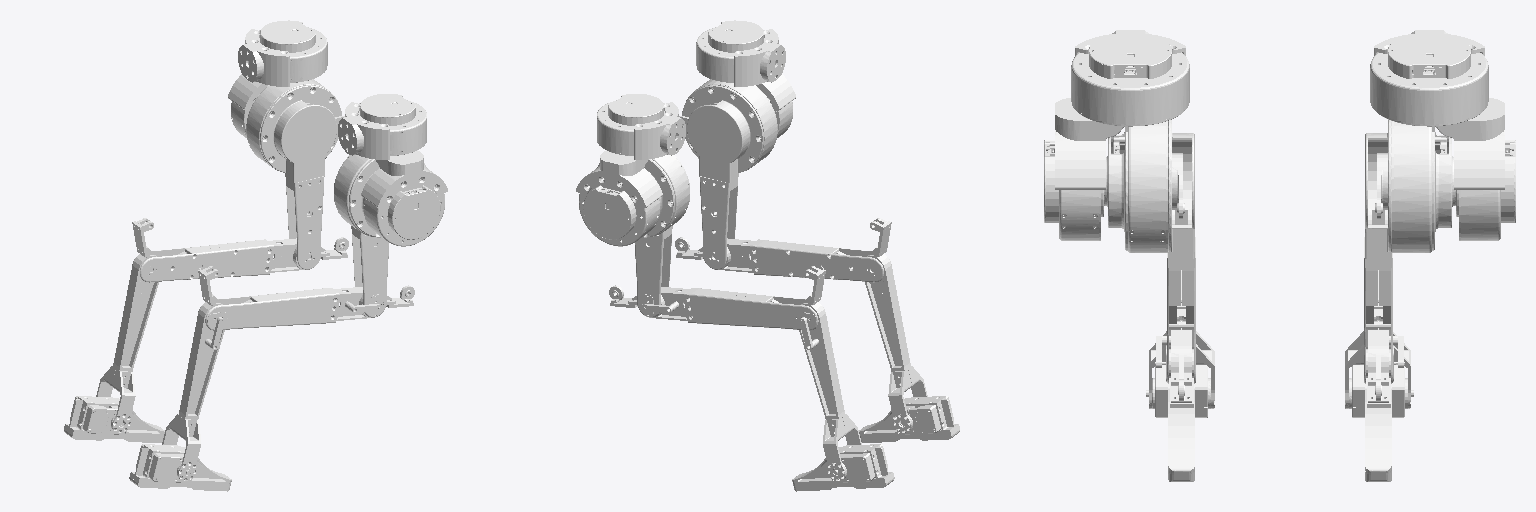
URDF robot description (BonnieURDF_latest):
<?xml version="1.0" encoding="utf-8"?>
<!-- This URDF was automatically created by SolidWorks to URDF Exporter! Originally created by [author] ([email redacted]) 
     Commit Version: 1.6.0-4-g7f85cfe  Build Version: 1.6.7995.38578
     For more information, please see http://wiki.ros.org/sw_urdf_exporter -->
<robot
  name="BonnieURDF_latest">
  <link
    name="base_link">
    <inertial>
      <origin
        xyz="0.03615 0.00032 0.05426"
        rpy="0 0 0" />
      <mass
        value="5.4310409" />
      <inertia
        ixx="0.07333"
        ixy="-0.00012"
        ixz="0.0138"
        iyy="0.05085"
        iyz="-4E-05"
        izz="0.08396" />
    </inertial>
    <visual>
      <origin
        xyz="0 0 0"
        rpy="0 0 0" />
      <geometry>
        <mesh
          filename="package://meshes/base_link.STL" />
      </geometry>
      <material
        name="">
        <color
          rgba="1 1 1 1" />
      </material>
    </visual>
    <collision>
      <origin
        xyz="0 0 0"
        rpy="0 0 0" />
      <geometry>
        <mesh
          filename="package://meshes/base_link.STL" />
      </geometry>
    </collision>
  </link>
  <link
    name="r_roll_link">
    <inertial>
      <origin
        xyz="-0.00179 -0.000876 -0.055111"
        rpy="0 0 0" />
      <mass
        value="0.77443" />
      <inertia
        ixx="0.001081"
        ixy="2E-06"
        ixz="7E-06"
        iyy="0.000774"
        iyz="0"
        izz="0.000774" />
    </inertial>
    <visual>
      <origin
        xyz="0 0 0"
        rpy="0 0 0" />
      <geometry>
        <mesh
          filename="package://meshes/r_roll_link.STL" />
      </geometry>
      <material
        name="">
        <color
          rgba="1 1 1 1" />
      </material>
    </visual>
    <collision>
      <origin
        xyz="0 0 0"
        rpy="0 0 0" />
      <geometry>
        <mesh
          filename="package://meshes/r_roll_link.STL" />
      </geometry>
    </collision>
  </link>
  <joint
    name="r_roll_joint"
    type="revolute">
    <origin
      xyz="0 -0.125 0"
      rpy="3.1416 1.5708 0" />
    <parent
      link="base_link" />
    <child
      link="r_roll_link" />
    <axis
      xyz="0 0 1" />
    <limit effort="150.0" lower="-6.2831853" upper="6.2831853" velocity="10"/>
  </joint>
  <link
    name="r_yaw_link">
    <inertial>
      <origin
        xyz="8E-06 -0.041712 -0.062133"
        rpy="0 0 0" />
      <mass
        value="0.85746" />
      <inertia
        ixx="0.001088"
        ixy="2E-06"
        ixz="0"
        iyy="0.00136"
        iyz="9.9E-05"
        izz="0.000833" />
    </inertial>
    <visual>
      <origin
        xyz="0 0 0"
        rpy="0 0 0" />
      <geometry>
        <mesh
          filename="package://meshes/r_yaw_link.STL" />
      </geometry>
      <material
        name="">
        <color
          rgba="1 1 1 1" />
      </material>
    </visual>
    <collision>
      <origin
        xyz="0 0 0"
        rpy="0 0 0" />
      <geometry>
        <mesh
          filename="package://meshes/r_yaw_link.STL" />
      </geometry>
    </collision>
  </link>
  <joint
    name="r_yaw_joint"
    type="revolute">
    <origin
      xyz="0.02 0 -0.0585"
      rpy="3.1416 1.5708 0" />
    <parent
      link="r_roll_link" />
    <child
      link="r_yaw_link" />
    <axis
      xyz="0 0 1" />
    <limit effort="150.0" lower="-6.2831853" upper="6.2831853" velocity="10"/>
  </joint>
  <link
    name="r_pitch_link">
    <inertial>
      <origin
        xyz="0.009263 -0.0005 -0.036818"
        rpy="0 0 0" />
      <mass
        value="1.5261" />
      <inertia
        ixx="0.002134"
        ixy="5E-06"
        ixz="-0.000367"
        iyy="0.003721"
        iyz="4E-06"
        izz="0.004751" />
    </inertial>
    <visual>
      <origin
        xyz="0 0 0"
        rpy="0 0 0" />
      <geometry>
        <mesh
          filename="package://meshes/r_pitch_link.STL" />
      </geometry>
      <material
        name="">
        <color
          rgba="1 1 1 1" />
      </material>
    </visual>
    <collision>
      <origin
        xyz="0 0 0"
        rpy="0 0 0" />
      <geometry>
        <mesh
          filename="package://meshes/r_pitch_link.STL" />
      </geometry>
    </collision>
  </link>
  <joint
    name="r_pitch_joint"
    type="revolute">
    <origin
      xyz="0 -0.022 -0.071"
      rpy="1.5708 1.5708 0" />
    <parent
      link="r_yaw_link" />
    <child
      link="r_pitch_link" />
    <axis
      xyz="0 0 1" />
    <limit effort="150.0" lower="-6.2831853" upper="6.2831853" velocity="10"/>
  </joint>
  <link
    name="r_knee_link">
    <inertial>
      <origin
        xyz="0.00896 0.00027667 -0.0058169"
        rpy="0 0 0" />
      <mass
        value="0.051027" />
      <inertia
        ixx="7.37E-06"
        ixy="3.3E-07"
        ixz="-1.23E-06"
        iyy="2.572E-05"
        iyz="-4E-08"
        izz="3.214E-05" />
    </inertial>
    <visual>
      <origin
        xyz="0 0 0"
        rpy="0 0 0" />
      <geometry>
        <mesh
          filename="package://meshes/r_knee_link.STL" />
      </geometry>
      <material
        name="">
        <color
          rgba="1 1 1 1" />
      </material>
    </visual>
    <collision>
      <origin
        xyz="0 0 0"
        rpy="0 0 0" />
      <geometry>
        <mesh
          filename="package://meshes/r_knee_link.STL" />
      </geometry>
    </collision>
  </link>
  <joint
    name="r_knee_joint"
    type="revolute">
    <origin
      xyz="0 0 -0.0556999999999996"
      rpy="0 0 1.5707963267949" />
    <parent
      link="r_pitch_link" />
    <child
      link="r_knee_link" />
    <axis
      xyz="0 0 -1" />
    <limit effort="150.0" lower="-6.2831853" upper="6.2831853" velocity="10"/>
  </joint>
  <link
    name="r_pas1_link">
    <inertial>
      <origin
        xyz="0.092132 -0.00011396 0.00046816"
        rpy="0 0 0" />
      <mass
        value="0.22498" />
      <inertia
        ixx="3.8991E-05"
        ixy="4.65E-06"
        ixz="4.57E-06"
        iyy="0.0018412"
        iyz="1E-08"
        izz="0.0018559" />
    </inertial>
    <visual>
      <origin
        xyz="0 0 0"
        rpy="0 0 0" />
      <geometry>
        <mesh
          filename="package://meshes/r_pas1_link.STL" />
      </geometry>
      <material
        name="">
        <color
          rgba="1 1 1 1" />
      </material>
    </visual>
    <collision>
      <origin
        xyz="0 0 0"
        rpy="0 0 0" />
      <geometry>
        <mesh
          filename="package://meshes/r_pas1_link.STL" />
      </geometry>
    </collision>
  </link>
  <joint
    name="r_pas1_joint"
    type="revolute">
    <origin
      xyz="0.168 0 -0.0647"
      rpy="0 0 -1.722" />
    <parent
      link="r_pitch_link" />
    <child
      link="r_pas1_link" />
    <axis
      xyz="0 0 1" />
      <limit effort="150.0" lower="-6.2831853" upper="6.2831853" velocity="10"/>
  </joint>
  <link
    name="r_pas2_link">
    <inertial>
      <origin
        xyz="0.066727 -0.0017204 0.00024193"
        rpy="0 0 0" />
      <mass
        value="0.15816" />
      <inertia
        ixx="3.449E-05"
        ixy="2.961E-05"
        ixz="-1.81E-05"
        iyy="0.00091855"
        iyz="7E-08"
        izz="0.00091882" />
    </inertial>
    <visual>
      <origin
        xyz="0 0 0"
        rpy="0 0 0" />
      <geometry>
        <mesh
          filename="package://meshes/r_pas2_link.STL" />
      </geometry>
      <material
        name="">
        <color
          rgba="1 1 1 1" />
      </material>
    </visual>
    <collision>
      <origin
        xyz="0 0 0"
        rpy="0 0 0" />
      <geometry>
        <mesh
          filename="package://meshes/r_pas2_link.STL" />
      </geometry>
    </collision>
  </link>
  <joint
    name="r_pas2_joint"
    type="revolute">
    <origin
      xyz="0.23 0 0"
      rpy="0 0 1.454" />
    <parent
      link="r_pas1_link" />
    <child
      link="r_pas2_link" />
    <axis
      xyz="0 0 1" />
      <limit effort="150.0" lower="-6.2831853" upper="6.2831853" velocity="10"/>
  </joint>
  <link
    name="r_ankle_link">
    <inertial>
      <origin
        xyz="-0.005767 -0.004689 0.00033"
        rpy="0 0 0" />
      <mass
        value="0.26119" />
      <inertia
        ixx="7.7E-05"
        ixy="-3.1E-05"
        ixz="0"
        iyy="0.000275"
        iyz="0"
        izz="0.000289" />
    </inertial>
    <visual>
      <origin
        xyz="0 0 0"
        rpy="0 0 0" />
      <geometry>
        <mesh
          filename="package://meshes/r_ankle_link.STL" />
      </geometry>
      <material
        name="">
        <color
          rgba="1 1 1 1" />
      </material>
    </visual>
    <collision>
      <origin
        xyz="0 0 0"
        rpy="0 0 0" />
      <geometry>
        <mesh
          filename="package://meshes/r_ankle_link.STL" />
      </geometry>
    </collision>
  </link>
  <joint
    name="r_ankle_joint"
    type="revolute">
    <origin
      xyz="0.2 0 0"
      rpy="0 0 1.5708" />
    <parent
      link="r_pas2_link" />
    <child
      link="r_ankle_link" />
    <axis
      xyz="0 0 1" />
      <limit effort="150.0" lower="-6.2831853" upper="6.2831853" velocity="10"/>
  </joint>
  <link
    name="l_roll_link">
    <inertial>
      <origin
        xyz="-0.0017898 8.72E-06 -0.055111"
        rpy="0 0 0" />
      <mass
        value="0.77442" />
      <inertia
        ixx="0.0010807"
        ixy="1.57E-06"
        ixz="6.78E-06"
        iyy="0.00077438"
        iyz="-6E-08"
        izz="0.0007139" />
    </inertial>
    <visual>
      <origin
        xyz="0 0 0"
        rpy="0 0 0" />
      <geometry>
        <mesh
          filename="package://meshes/l_roll_link.STL" />
      </geometry>
      <material
        name="">
        <color
          rgba="1 1 1 1" />
      </material>
    </visual>
    <collision>
      <origin
        xyz="0 0 0"
        rpy="0 0 0" />
      <geometry>
        <mesh
          filename="package://meshes/l_roll_link.STL" />
      </geometry>
    </collision>
  </link>
  <joint
    name="l_roll_joint"
    type="revolute">
    <origin
      xyz="0 0.125 0"
      rpy="3.1416 1.5708 0" />
    <parent
      link="base_link" />
    <child
      link="l_roll_link" />
    <axis
      xyz="0 0 1" />
      <limit effort="150.0" lower="-6.2831853" upper="6.2831853" velocity="10"/>
  </joint>
  <link
    name="l_yaw_link">
    <inertial>
      <origin
        xyz="-8.03E-06 0.041712 -0.062133"
        rpy="0 0 0" />
      <mass
        value="0.85746" />
      <inertia
        ixx="0.0010882"
        ixy="1.56E-06"
        ixz="2E-08"
        iyy="0.0013603"
        iyz="-9.938E-05"
        izz="0.00083255" />
    </inertial>
    <visual>
      <origin
        xyz="0 0 0"
        rpy="0 0 0" />
      <geometry>
        <mesh
          filename="package://meshes/l_yaw_link.STL" />
      </geometry>
      <material
        name="">
        <color
          rgba="1 1 1 1" />
      </material>
    </visual>
    <collision>
      <origin
        xyz="0 0 0"
        rpy="0 0 0" />
      <geometry>
        <mesh
          filename="package://meshes/l_yaw_link.STL" />
      </geometry>
    </collision>
  </link>
  <joint
    name="l_yaw_joint"
    type="revolute">
    <origin
      xyz="0.02 0 -0.0585"
      rpy="3.1416 1.5708 0" />
    <parent
      link="l_roll_link" />
    <child
      link="l_yaw_link" />
    <axis
      xyz="0 0 1" />
      <limit effort="150.0" lower="-6.2831853" upper="6.2831853" velocity="10"/>
  </joint>
  <link
    name="l_pitch_link">
    <inertial>
      <origin
        xyz="0.0092633 -0.000224 -0.036818"
        rpy="0 0 0" />
      <mass
        value="1.5261" />
      <inertia
        ixx="0.0021342"
        ixy="-2.131E-05"
        ixz="-0.00036682"
        iyy="0.0037212"
        iyz="-8.48E-06"
        izz="0.0047508" />
    </inertial>
    <visual>
      <origin
        xyz="0 0 0"
        rpy="0 0 0" />
      <geometry>
        <mesh
          filename="package://meshes/l_pitch_link.STL" />
      </geometry>
      <material
        name="">
        <color
          rgba="1 1 1 1" />
      </material>
    </visual>
    <collision>
      <origin
        xyz="0 0 0"
        rpy="0 0 0" />
      <geometry>
        <mesh
          filename="package://meshes/l_pitch_link.STL" />
      </geometry>
    </collision>
  </link>
  <joint
    name="l_pitch_joint"
    type="revolute">
    <origin
      xyz="0 0.022 -0.071"
      rpy="0 1.5708 1.5708" />
    <parent
      link="l_yaw_link" />
    <child
      link="l_pitch_link" />
    <axis
      xyz="0 0 1" />
      <limit effort="150.0" lower="-6.2831853" upper="6.2831853" velocity="10"/>
  </joint>
  <link
    name="l_knee_link">
    <inertial>
      <origin
        xyz="0.00896 -0.00027667 -0.0058169"
        rpy="0 0 0" />
      <mass
        value="0.051027" />
      <inertia
        ixx="7.37E-06"
        ixy="-3.3E-07"
        ixz="-1.23E-06"
        iyy="2.572E-05"
        iyz="4E-08"
        izz="3.214E-05" />
    </inertial>
    <visual>
      <origin
        xyz="0 0 0"
        rpy="0 0 0" />
      <geometry>
        <mesh
          filename="package://meshes/l_knee_link.STL" />
      </geometry>
      <material
        name="">
        <color
          rgba="1 1 1 1" />
      </material>
    </visual>
    <collision>
      <origin
        xyz="0 0 0"
        rpy="0 0 0" />
      <geometry>
        <mesh
          filename="package://meshes/l_knee_link.STL" />
      </geometry>
    </collision>
  </link>
  <joint
    name="l_knee_joint"
    type="revolute">
    <origin
      xyz="0 0 -0.0557"
      rpy="0 0 -1.5708" />
    <parent
      link="l_pitch_link" />
    <child
      link="l_knee_link" />
    <axis
      xyz="0 0 1" />
      <limit effort="150.0" lower="-6.2831853" upper="6.2831853" velocity="10"/>
  </joint>
  <link
    name="l_pas1_link">
    <inertial>
      <origin
        xyz="0.092132 0.00011376 0.00045005"
        rpy="0 0 0" />
      <mass
        value="0.22498" />
      <inertia
        ixx="3.908E-05"
        ixy="-4.66E-06"
        ixz="5.08E-06"
        iyy="0.0018413"
        iyz="-1E-08"
        izz="0.0018559" />
    </inertial>
    <visual>
      <origin
        xyz="0 0 0"
        rpy="0 0 0" />
      <geometry>
        <mesh
          filename="package://meshes/l_pas1_link.STL" />
      </geometry>
      <material
        name="">
        <color
          rgba="1 1 1 1" />
      </material>
    </visual>
    <collision>
      <origin
        xyz="0 0 0"
        rpy="0 0 0" />
      <geometry>
        <mesh
          filename="package://meshes/l_pas1_link.STL" />
      </geometry>
    </collision>
  </link>
  <joint
    name="l_pas1_joint"
    type="revolute">
    <origin
      xyz="0.168 0 -0.06455"
      rpy="0 0 1.722" />
    <parent
      link="l_pitch_link" />
    <child
      link="l_pas1_link" />
    <axis
      xyz="0 0 1" />
      <limit effort="150.0" lower="-6.2831853" upper="6.2831853" velocity="10"/>
  </joint>
  <link
    name="l_pas2_link">
    <inertial>
      <origin
        xyz="0.066727 0.0017204 0.00024193"
        rpy="0 0 0" />
      <mass
        value="0.15816" />
      <inertia
        ixx="3.449E-05"
        ixy="-2.961E-05"
        ixz="-1.81E-06"
        iyy="0.00091855"
        iyz="-7E-08"
        izz="0.00091883" />
    </inertial>
    <visual>
      <origin
        xyz="0 0 0"
        rpy="0 0 0" />
      <geometry>
        <mesh
          filename="package://meshes/l_pas2_link.STL" />
      </geometry>
      <material
        name="">
        <color
          rgba="1 1 1 1" />
      </material>
    </visual>
    <collision>
      <origin
        xyz="0 0 0"
        rpy="0 0 0" />
      <geometry>
        <mesh
          filename="package://meshes/l_pas2_link.STL" />
      </geometry>
    </collision>
  </link>
  <joint
    name="l_pas2_joint"
    type="revolute">
    <origin
      xyz="0.23 0 -0.0001"
      rpy="0 0 -1.454" />
    <parent
      link="l_pas1_link" />
    <child
      link="l_pas2_link" />
    <axis
      xyz="0 0 1" />
      <limit effort="150.0" lower="-6.2831853" upper="6.2831853" velocity="10"/>
  </joint>
  <link
    name="l_ankle_link">
    <inertial>
      <origin
        xyz="-0.005767 0.0046887 0.00033026"
        rpy="0 0 0" />
      <mass
        value="0.26119" />
      <inertia
        ixx="7.65E-05"
        ixy="3.126E-05"
        ixz="-4.6E-07"
        iyy="0.0002751"
        iyz="-4E-07"
        izz="0.00028878" />
    </inertial>
    <visual>
      <origin
        xyz="0 0 0"
        rpy="0 0 0" />
      <geometry>
        <mesh
          filename="package://meshes/l_ankle_link.STL" />
      </geometry>
      <material
        name="">
        <color
          rgba="1 1 1 1" />
      </material>
    </visual>
    <collision>
      <origin
        xyz="0 0 0"
        rpy="0 0 0" />
      <geometry>
        <mesh
          filename="package://meshes/l_ankle_link.STL" />
      </geometry>
    </collision>
  </link>
  <joint
    name="l_ankle_joint"
    type="revolute">
    <origin
      xyz="0.2 0 0"
      rpy="0 0 -1.5708" />
    <parent
      link="l_pas2_link" />
    <child
      link="l_ankle_link" />
    <axis
      xyz="0 0 1" />
      <limit effort="150.0" lower="-6.2831853" upper="6.2831853" velocity="10"/>
  </joint>
</robot>

--- Facts derived from the render (not from the file) ---
Views: 3 orthographic renders of the robot side by side, from view 1: azimuth 30°, elevation 25°; view 2: azimuth 150°, elevation 25°; view 3: azimuth 270°, elevation 25°.
Robot: BonnieURDF_latest — 15 links, 14 joints (14 revolute); root link base_link; default pose: all joints at 0.
Links seen in each view (by area): view 1: l_pitch_link, r_yaw_link, r_pas1_link, l_pas1_link, l_roll_link, r_roll_link, r_pitch_link, r_pas2_link, l_pas2_link, r_ankle_link, l_ankle_link, l_yaw_link; view 2: r_pitch_link, l_yaw_link, l_pas1_link, r_pas1_link, r_roll_link, l_roll_link, l_pitch_link, l_pas2_link, r_pas2_link, l_ankle_link, r_ankle_link, r_yaw_link; view 3: l_pitch_link, r_pitch_link, r_roll_link, l_roll_link, r_yaw_link, l_yaw_link, l_ankle_link, r_ankle_link, r_pas1_link, l_pas1_link, r_pas2_link, l_pas2_link (+2 smaller).
Boxes of the visible links, left/top/right/bottom form: l_pitch_link: left=246, top=79, right=341, bottom=269; r_yaw_link: left=361, top=150, right=447, bottom=246; r_pas1_link: left=198, top=285, right=414, bottom=330; l_pas1_link: left=132, top=237, right=348, bottom=282; l_roll_link: left=238, top=20, right=327, bottom=86; r_roll_link: left=338, top=94, right=426, bottom=159; r_pitch_link: left=334, top=155, right=426, bottom=317; r_pas2_link: left=162, top=266, right=224, bottom=480; l_pas2_link: left=96, top=218, right=158, bottom=432; r_ankle_link: left=129, top=444, right=231, bottom=491; l_ankle_link: left=64, top=396, right=164, bottom=442; l_yaw_link: left=228, top=74, right=267, bottom=137; r_pitch_link: left=682, top=79, right=777, bottom=269; l_yaw_link: left=576, top=150, right=662, bottom=246; l_pas1_link: left=609, top=285, right=823, bottom=330; r_pas1_link: left=675, top=237, right=891, bottom=282; r_roll_link: left=696, top=20, right=785, bottom=86; l_roll_link: left=597, top=94, right=685, bottom=159; l_pitch_link: left=597, top=155, right=689, bottom=317; l_pas2_link: left=799, top=266, right=861, bottom=480; r_pas2_link: left=865, top=218, right=927, bottom=432; l_ankle_link: left=792, top=444, right=894, bottom=491; r_ankle_link: left=859, top=396, right=959, bottom=442; r_yaw_link: left=756, top=74, right=795, bottom=137; l_pitch_link: left=1364, top=120, right=1455, bottom=383; r_pitch_link: left=1104, top=120, right=1195, bottom=383; r_roll_link: left=1071, top=30, right=1189, bottom=126; l_roll_link: left=1370, top=30, right=1488, bottom=126; r_yaw_link: left=1044, top=98, right=1124, bottom=240; l_yaw_link: left=1435, top=98, right=1515, bottom=240; l_ankle_link: left=1349, top=365, right=1413, bottom=481; r_ankle_link: left=1146, top=365, right=1210, bottom=481; r_pas1_link: left=1156, top=270, right=1193, bottom=407; l_pas1_link: left=1366, top=270, right=1403, bottom=407; r_pas2_link: left=1149, top=331, right=1214, bottom=408; l_pas2_link: left=1345, top=331, right=1410, bottom=408.
Bounding box of the posed robot: 0.4051 × 0.394 × 0.4965 m (x, y, z).
Meshes: 15 distinct files referenced, 14 mesh visuals loaded (14 binary STL); not drawn: 1 (reference not matched to a file when rendering).
